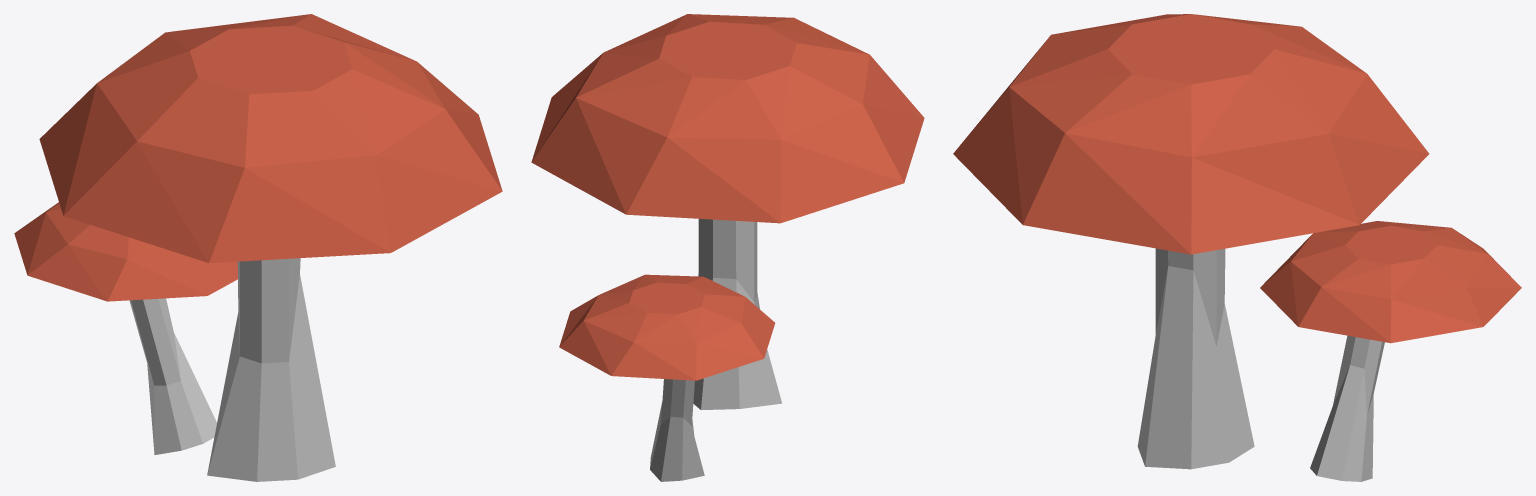
File: Mushroom1.fbx
3 views of the same model, side by side, from view 1: azimuth 30°, elevation 25°; view 2: azimuth 150°, elevation 25°; view 3: azimuth 270°, elevation 25° (orthographic). The views are drawn at different scales.
Parts seen in each view (by area): view 1: Disc, Disc_1, Disc_2, Disc_3; view 2: Disc, Disc_2, Disc_1, Disc_3; view 3: Disc, Disc_2, Disc_1, Disc_3.
Boxes of the visible parts, left/top/right/bottom form: Disc: left=39, top=14, right=502, bottom=263; Disc_1: left=207, top=258, right=335, bottom=481; Disc_2: left=14, top=202, right=237, bottom=301; Disc_3: left=129, top=298, right=216, bottom=454; Disc: left=531, top=14, right=924, bottom=223; Disc_2: left=559, top=274, right=775, bottom=380; Disc_1: left=693, top=219, right=782, bottom=410; Disc_3: left=650, top=379, right=704, bottom=481; Disc: left=953, top=14, right=1429, bottom=254; Disc_2: left=1260, top=221, right=1521, bottom=343; Disc_1: left=1137, top=248, right=1254, bottom=469; Disc_3: left=1310, top=335, right=1384, bottom=481.
Size of the model in its own units: 80 by 80.66 by 95.52.
